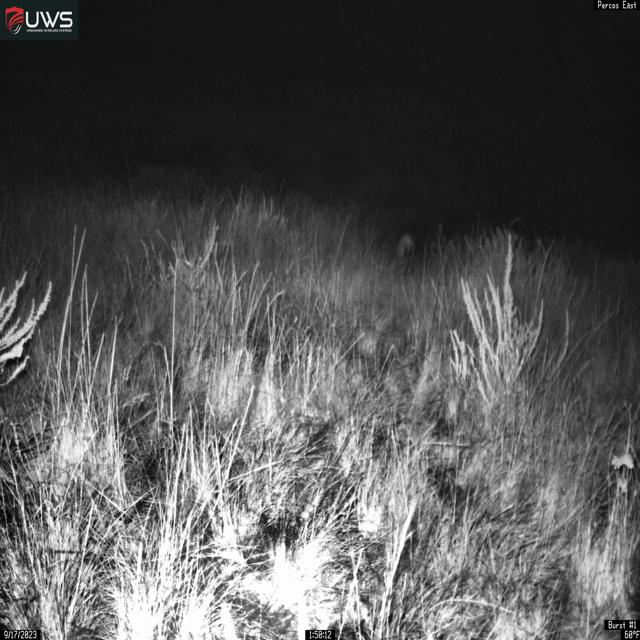pig: (392, 232, 415, 275)
